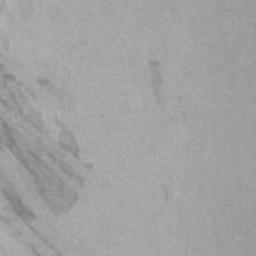Water spot: (0, 44, 101, 256), (146, 58, 166, 114)
